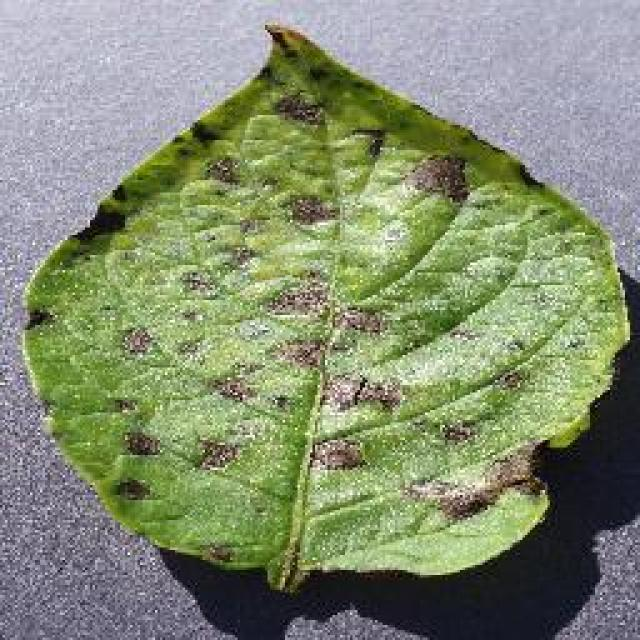early_blight: (15, 17, 633, 595)
